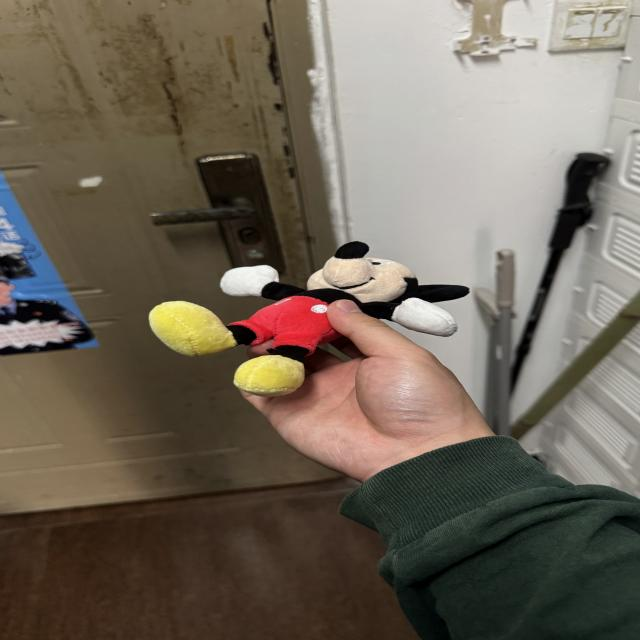mickey: (150, 242, 468, 396)
